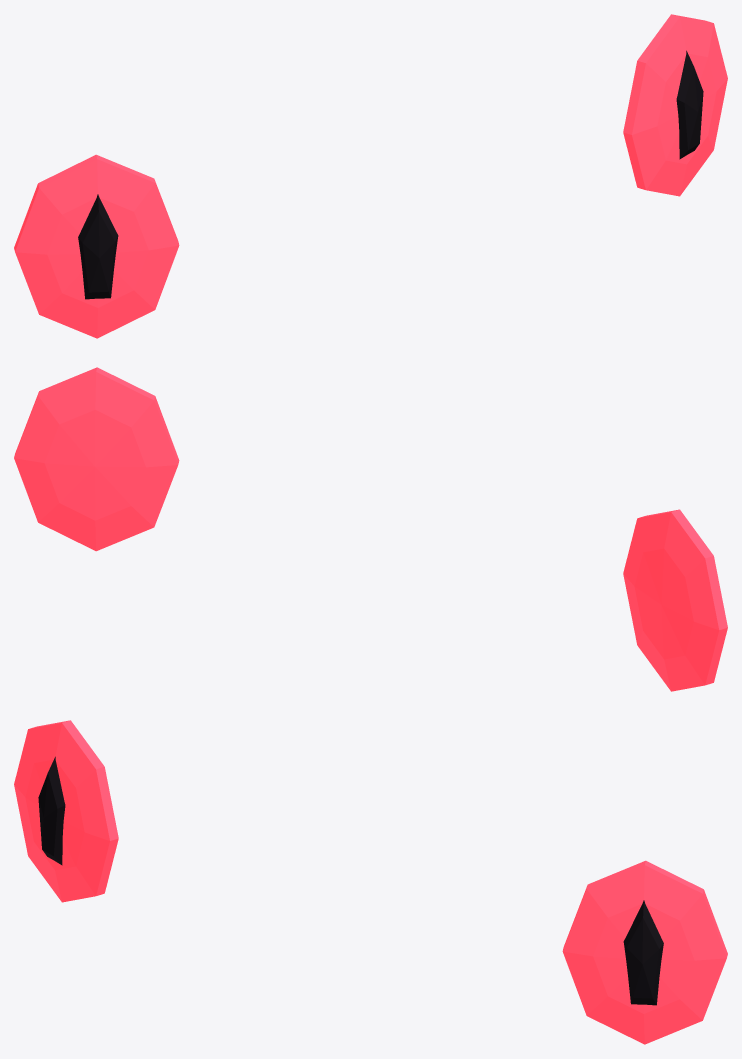
File: morvaine_noble_eyes.glb
3 renders of one model, top to bottom at view 1: azimuth 30°, elevation 25°; view 2: azimuth 150°, elevation 25°; view 3: azimuth 330°, elevation 25°, orthographic.
Parts seen in each view (by area): view 1: morvaine_noble_eyes; view 2: morvaine_noble_eyes; view 3: morvaine_noble_eyes.
Boxes of the visible parts, x1,y1,x2,y2 form: morvaine_noble_eyes: (14, 14, 727, 338); morvaine_noble_eyes: (14, 367, 727, 691); morvaine_noble_eyes: (14, 720, 727, 1044).
Size of the model in its own units: 0.4741 by 0.1141 by 0.0449.
